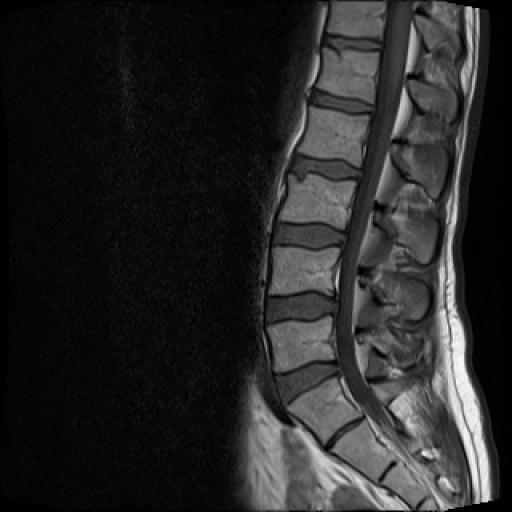L1: (316, 47, 379, 102)
L2: (298, 106, 370, 166)
L3: (282, 174, 356, 230)
L4: (270, 248, 340, 295)
L5: (267, 316, 335, 372)
S1: (287, 377, 361, 444)
